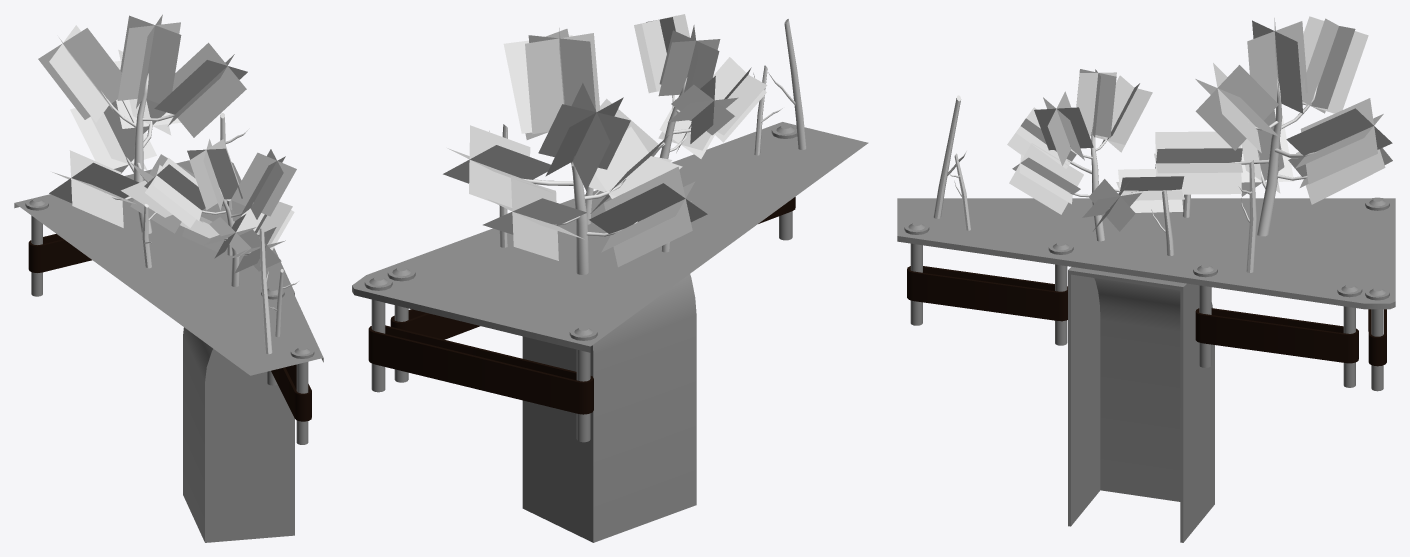
File: Mire Island.FBX
The picture shows the model from 3 angles, left to right: view 1: azimuth 30°, elevation 25°; view 2: azimuth 150°, elevation 25°; view 3: azimuth 270°, elevation 25°; orthographic projection. The views are drawn at different scales.
Parts seen in each view (by area): view 1: Cover, Kickout Hole, Pine Needles011, Pine Needles012, Pine Needles013, Pine Needles007, Pine Needles008, Pine Needles004, Pine Needles005, Pine Needles006, Plastic Rail, Pine Needles009 (+12 smaller); view 2: Cover, Kickout Hole, Plastic Rail, Pine Needles007, Pine Needles013, Pine Needles011, Pine Needles010, Pine Needles008, Pine Needles009, Pine Needles006, Pine Needles003, Pine Needles005 (+10 smaller); view 3: Cover, Kickout Hole, Plastic Rail001, Plastic Rail008, Pine Needles009, Pine Needles010, Pine Needles011, Pine Needles012, Pine Needles013, Pine Needles001, Pine Needles004, Pine Needles002 (+15 smaller).
Part boxes in pixels (x1=…): Cover: x1=14, y1=160, x2=323, y2=375; Kickout Hole: x1=183, y1=248, x2=294, y2=542; Pine Needles011: x1=38, y1=25, x2=121, y2=122; Pine Needles012: x1=154, y1=42, x2=247, y2=137; Pine Needles013: x1=117, y1=14, x2=181, y2=108; Pine Needles007: x1=49, y1=150, x2=138, y2=227; Pine Needles008: x1=70, y1=100, x2=156, y2=173; Pine Needles004: x1=231, y1=149, x2=296, y2=219; Pine Needles005: x1=144, y1=158, x2=205, y2=227; Pine Needles006: x1=187, y1=139, x2=242, y2=210; Plastic Rail: x1=28, y1=234, x2=91, y2=272; Pine Needles009: x1=121, y1=154, x2=202, y2=233; Cover: x1=352, y1=122, x2=868, y2=352; Kickout Hole: x1=522, y1=274, x2=696, y2=542; Plastic Rail: x1=368, y1=325, x2=593, y2=414; Pine Needles007: x1=589, y1=166, x2=707, y2=267; Pine Needles013: x1=525, y1=28, x2=600, y2=134; Pine Needles011: x1=538, y1=83, x2=630, y2=190; Pine Needles010: x1=443, y1=125, x2=551, y2=207; Pine Needles008: x1=483, y1=176, x2=586, y2=260; Pine Needles009: x1=588, y1=127, x2=682, y2=213; Pine Needles006: x1=658, y1=25, x2=720, y2=96; Pine Needles003: x1=713, y1=57, x2=767, y2=142; Pine Needles005: x1=668, y1=76, x2=738, y2=143; Cover: x1=897, y1=198, x2=1395, y2=309; Kickout Hole: x1=1068, y1=267, x2=1214, y2=542; Plastic Rail001: x1=1195, y1=308, x2=1358, y2=363; Plastic Rail008: x1=907, y1=266, x2=1067, y2=321; Pine Needles009: x1=1154, y1=131, x2=1242, y2=194; Pine Needles010: x1=1286, y1=98, x2=1392, y2=184; Pine Needles011: x1=1301, y1=16, x2=1368, y2=113; Pine Needles012: x1=1195, y1=63, x2=1279, y2=152; Pine Needles013: x1=1247, y1=18, x2=1307, y2=116; Pine Needles001: x1=1009, y1=143, x2=1083, y2=214; Pine Needles004: x1=1034, y1=91, x2=1093, y2=165; Pine Needles002: x1=1116, y1=168, x2=1184, y2=212.
Bounding box in the file's own units: 0.0901 × 0.1685 × 0.1595.
